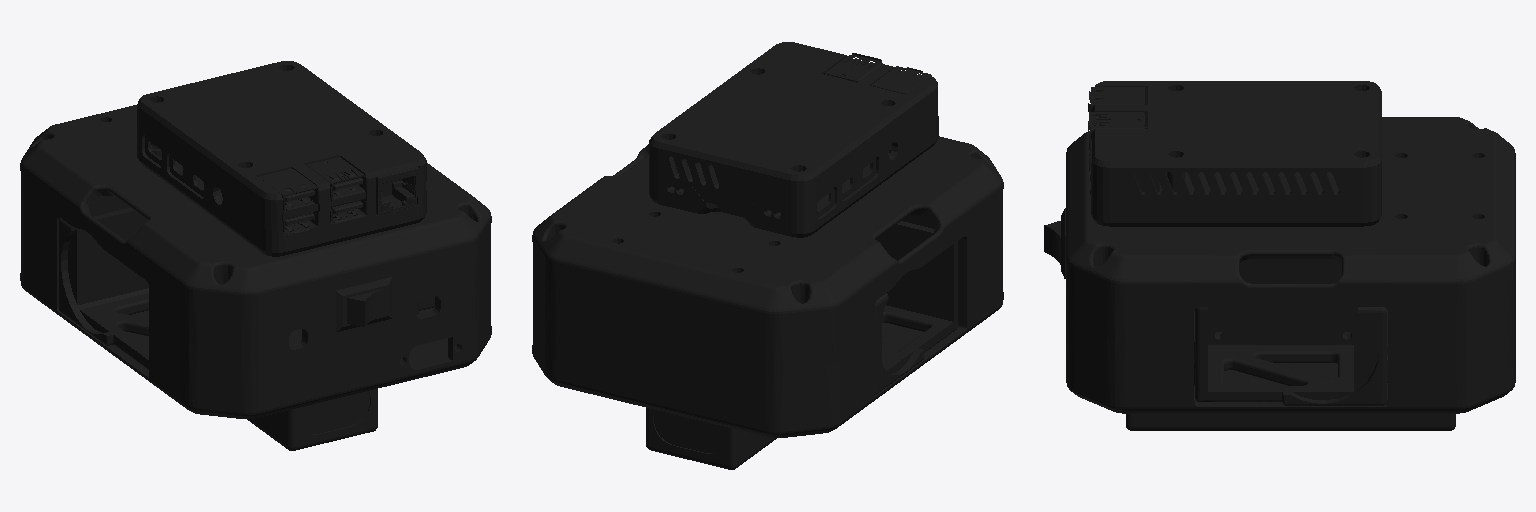
The robot description file, URDF, robot "biped_wheel":
<?xml version="1.0" encoding="utf-8"?>
<!-- This URDF was automatically created by SolidWorks to URDF Exporter! Originally created by [author] ([email redacted]) 
     Commit Version: 1.6.0-4-g7f85cfe  Build Version: 1.6.7995.38578
     For more information, please see http://wiki.ros.org/sw_urdf_exporter -->
<robot
  name="biped_wheel">
  <mujoco>
  <compiler
    meshdir="../meshes"
    balanceinertia="true"
    discardvisual="false" />
  </mujoco>
  <link
    name="base_link">
    <inertial>
      <origin
        xyz="-0.0349747185483531 7.13750741980595E-05 0.0551699156416088"
        rpy="0 0 0" />
      <mass
        value="2.327" />
      <inertia
        ixx="0.010715"
        ixy="0.000013"
        ixz="0.000632"
        iyy="0.010702"
        iyz="-0.000011"
        izz="0.014614" />
    </inertial>
    <visual>
      <origin
        xyz="0 0 0"
        rpy="0 0 0" />
      <geometry>
        <mesh
          filename="../meshes/base_link.STL" />
      </geometry>
      <material
        name="">
        <color
          rgba="0.156862745098039 0.156862745098039 0.156862745098039 1" />
      </material>
    </visual>
    <collision>
      <origin
        xyz="-0.036 0 0.058"
        rpy="0 0 0" />
      <geometry>
        <box size="0.217 0.164 0.14"/>
      </geometry>
    </collision>
  </link>
  <link
    name="R_thigh_link">
    <inertial>
      <origin
        xyz="-0.00116865881115809 -0.0168013747444129 -0.141575378586168"
        rpy="0 0 0" />
      <mass
        value="0.79" />
      <inertia
        ixx="0.003643"
        ixy="-0.000014"
        ixz="-0.000019"
        iyy="0.004007"
        iyz="-0.000195"
        izz="0.000534" />
    </inertial>
    <visual>
      <origin
        xyz="0 0 0"
        rpy="0 0 0" />
      <geometry>
        <mesh
          filename="../meshes/R_thigh_link.STL" />
      </geometry>
      <material
        name="">
        <color
          rgba="0.145098039215686 0.145098039215686 0.145098039215686 1" />
      </material>
    </visual>
    <collision>
      <origin
        xyz="0 -0.0175 -0.104"
        rpy="0 0 0" />
      <geometry>
        <box size="0.08 0.035 0.25"/>
      </geometry>
    </collision>
  </link>
  <joint
    name="R_thigh_joint"
    type="revolute">
    <origin
      xyz="-0.0341457848331154 -0.084999902008739 0.0485000000000005"
      rpy="0 0 0" />
    <parent
      link="base_link" />
    <child
      link="R_thigh_link" />
    <axis
      xyz="0 1 0" />
    <limit
      lower="0"
      upper="2.1"
      effort="23.7"
      velocity="30.1" />
  </joint>
  <link
    name="R_calf_link">
    <inertial>
      <origin
        xyz="-0.000152503655581268 -0.0172487963790917 -0.101144590057689"
        rpy="0 0 0" />
      <mass
        value="0.540" />
      <inertia
        ixx="0.004682"
        ixy="0.000000"
        ixz="-0.000004"
        iyy="0.004707"
        iyz="-0.000251"
        izz="0.000158" />
    </inertial>
    <visual>
      <origin
        xyz="0 0 0"
        rpy="0 0 0" />
      <geometry>
        <mesh
          filename="../meshes/R_calf_link.STL" />
      </geometry>
      <material
        name="">
        <color
          rgba="0.145098039215686 0.145098039215686 0.145098039215686 1" />
      </material>
    </visual>
    <collision>
      <origin
        xyz="0 -0.0118 -0.04"
        rpy="0 0 0" />
      <geometry>
        <box size="0.05 0.0236 0.13"/>
      </geometry>
    </collision>
  </link>
  <joint
    name="R_calf_joint"
    type="revolute">
    <origin
      xyz="6.2330402911856E-05 -0.0383000000000001 -0.179999989208108"
      rpy="0 0 0" />
    <parent
      link="R_thigh_link" />
    <child
      link="R_calf_link" />
    <axis
      xyz="0 1 0" />
    <limit
      lower="-2.7"
      upper="0"
      effort="23.7"
      velocity="30.1" />
  </joint>
  <link
    name="R_foc_collision">
    <collision>
      <origin
        xyz="0 0.04 0"
        rpy="1.57 0 0" />
      <geometry>
        <cylinder radius="0.03" length="0.03"/>
      </geometry>
    </collision>
  </link>
  <joint
    name="R_foc_coll_fix"
    type="fixed" dont_collapse="true">
    <origin
      xyz="0 -0.0425499999999996 -0.179999728516744"
      rpy="0 0 0" />
    <parent
      link="R_calf_link" />
    <child
      link="R_foc_collision" />
    <axis
      xyz="0 -1 0" />
  </joint>
  <link
    name="R_wheel_link">
    <inertial>
      <origin
        xyz="-6.23310435086261E-05 0.00898740727693001 -1.05886024392987E-08"
        rpy="0 0 0" />
      <mass
        value="0.3" />
      <inertia
        ixx="0.000480"
        ixy="0.0"
        ixz="0.0"
        iyy="0.000934"
        iyz="0.0"
        izz="0.000480" />
    </inertial>
    <visual>
      <origin
        xyz="0 0 0"
        rpy="0 0 0" />
      <geometry>
        <mesh
          filename="../meshes/R_wheel_link.STL" />
      </geometry>
      <material
        name="">
        <color
          rgba="0.152941176470588 0.152941176470588 0.152941176470588 1" />
      </material>
    </visual>
    <collision>
      <origin
        xyz="0 0.01 0"
        rpy="1.57 0 0" />
      <geometry>
        <cylinder radius="0.07" length="0.023"/>
      </geometry>
    </collision>
  </link>
  <joint
    name="R_wheel_joint"
    type="revolute">
    <origin
      xyz="0 -0.0425499999999996 -0.179999728516744"
      rpy="0 0 0" />
    <parent
      link="R_calf_link" />
    <child
      link="R_wheel_link" />
    <axis
      xyz="0 1 0" />
    <limit
      effort="3.69"
      velocity="60" />
  </joint>
  <link
    name="L_thigh_link">
    <inertial>
      <origin
        xyz="-0.00111963567493078 0.0168013756573534 -0.141575780416055"
        rpy="0 0 0" />
      <mass
        value="0.79" />
      <inertia
        ixx="0.003643"
        ixy="0.000014"
        ixz="-0.000019"
        iyy="0.004007"
        iyz="0.000195"
        izz="0.000534" />
    </inertial>
    <visual>
      <origin
        xyz="0 0 0"
        rpy="0 0 0" />
      <geometry>
        <mesh
          filename="../meshes/L_thigh_link.STL" />
      </geometry>
      <material
        name="">
        <color
          rgba="0.145098039215686 0.145098039215686 0.145098039215686 1" />
      </material>
    </visual>
    <collision>
      <origin
        xyz="0 0.0175 -0.104"
        rpy="0 0 0" />
      <geometry>
        <box size="0.08 0.035 0.25"/>
      </geometry>
    </collision>
  </link>
  <joint
    name="L_thigh_joint"
    type="revolute">
    <origin
      xyz="-0.0341457848331138 0.085000097991257 0.0485000000000014"
      rpy="0 0 0" />
    <parent
      link="base_link" />
    <child
      link="L_thigh_link" />
    <axis
      xyz="0 1 0" />
    <limit
      lower="0"
      upper="2.1"
      effort="23.7"
      velocity="30.1" />
  </joint>
  <link
    name="L_calf_link">
    <inertial>
      <origin
        xyz="-0.000111671469757213 0.0172542844086094 -0.101218834955459"
        rpy="0 0 0" />
      <mass
        value="0.540" />
      <inertia
        ixx="0.004689"
        ixy="0.000000"
        ixz="-0.000004"
        iyy="0.004713"
        iyz="0.000252"
        izz="0.000158" />
    </inertial>
    <visual>
      <origin
        xyz="0 0 0"
        rpy="0 0 0" />
      <geometry>
        <mesh
          filename="../meshes/L_calf_link.STL" />
      </geometry>
      <material
        name="">
        <color
          rgba="0.145098039215686 0.145098039215686 0.145098039215686 1" />
      </material>
    </visual>
    <collision>
      <origin
        xyz="0 0.0118 -0.04"
        rpy="0 0 0" />
      <geometry>
        <box size="0.05 0.0236 0.13"/>
      </geometry>
    </collision>
  </link>
  <joint
    name="L_calf_joint"
    type="revolute">
    <origin
      xyz="6.23304029101976E-05 0.0382999999999904 -0.179999989208111"
      rpy="0 0 0" />
    <parent
      link="L_thigh_link" />
    <child
      link="L_calf_link" />
    <axis
      xyz="0 1 0" />
    <limit
      lower="-2.7"
      upper="0"
      effort="23.7"
      velocity="30.1" />
  </joint>
  <link
    name="L_foc_collision">
    <collision>
      <origin
        xyz="0 -0.04 0"
        rpy="-1.57 0 0" />
      <geometry>
        <cylinder radius="0.03" length="0.03"/>
      </geometry>
    </collision>
  </link>
  <joint
    name="L_foc_coll_fix"
    type="fixed" dont_collapse="true">
    <origin
      xyz="0 0.0425499999999973 -0.179999728516743"
      rpy="0 0 0" />
    <parent
      link="L_calf_link" />
    <child
      link="L_foc_collision" />
    <axis
      xyz="0 -1 0" />
  </joint>
  <link
    name="L_wheel_link">
    <inertial>
      <origin
        xyz="-8.1140716368111E-10 -0.00898740726095121 2.81785317302052E-10"
        rpy="0 0 0" />
      <mass
        value="0.3" />
      <inertia
        ixx="0.000480"
        ixy="0.0"
        ixz="0.0"
        iyy="0.000934"
        iyz="0.0"
        izz="0.000480"/>
    </inertial>
    <visual>
      <origin
        xyz="0 0 0"
        rpy="0 0 0" />
      <geometry>
        <mesh
          filename="../meshes/L_wheel_link.STL" />
      </geometry>
      <material
        name="">
        <color
          rgba="0.152941176470588 0.152941176470588 0.152941176470588 1" />
      </material>
    </visual>
    <collision>
      <origin
        xyz="0 -0.01 0"
        rpy="-1.57 0 0" />
      <geometry>
        <cylinder radius="0.07" length="0.023"/>
      </geometry>
    </collision>
  </link>
  <joint
    name="L_wheel_joint"
    type="revolute">
    <origin
      xyz="0 0.0425499999999973 -0.179999728516743"
      rpy="0 0 0" />
    <parent
      link="L_calf_link" />
    <child
      link="L_wheel_link" />
    <axis
      xyz="0 1 0" />
    <limit
      effort="3.69"
      velocity="60" />
  </joint>
  <link
    name="battery">
    <inertial>
      <origin
        xyz="-0.0775119919132627 -1.9661645415506E-05 0.0555034567020061"
        rpy="0 0 0" />
      <mass
        value="0.680" />
      <inertia
        ixx="0.000415"
        ixy="-0.000002"
        ixz="0.000032"
        iyy="0.001214"
        iyz="0.000001"
        izz="0.000978" />
    </inertial>
    <visual>
      <origin
        xyz="0 0 0"
        rpy="0 0 0" />
      <geometry>
        <mesh
          filename="../meshes/battery.STL" />
      </geometry>
      <material
        name="">
        <color
          rgba="0.247058823529412 0.247058823529412 0.247058823529412 1" />
      </material>
    </visual>
  </link>
  <joint
    name="battery_fix"
    type="fixed">
    <origin
      xyz="0 0 0"
      rpy="0 0 0" />
    <parent
      link="base_link" />
    <child
      link="battery" />
    <axis
      xyz="0 0 0" />
  </joint>
</robot>

--- Render facts (derived) ---
3 views of the same robot in one strip: view 1: azimuth 30°, elevation 25°; view 2: azimuth 150°, elevation 25°; view 3: azimuth 270°, elevation 25° (orthographic).
Model biped_wheel with 10 links and 9 joints (6 revolute, 3 fixed), rooted at base_link, posed all joints at 0.
Links seen in each view (by area): view 1: base_link; view 2: base_link; view 3: base_link.
Link boxes in pixels (x1,y1,x2,y2): base_link: (20,61,491,450); base_link: (532,42,1003,469); base_link: (1044,81,1515,430).
Size in the robot's own frame: 0.115 by 0.1468 by 0.1 metres.
Meshes: 8 distinct files referenced, 1 mesh visuals loaded (1 binary STL); not drawn: 7 (reference not matched to a file when rendering).